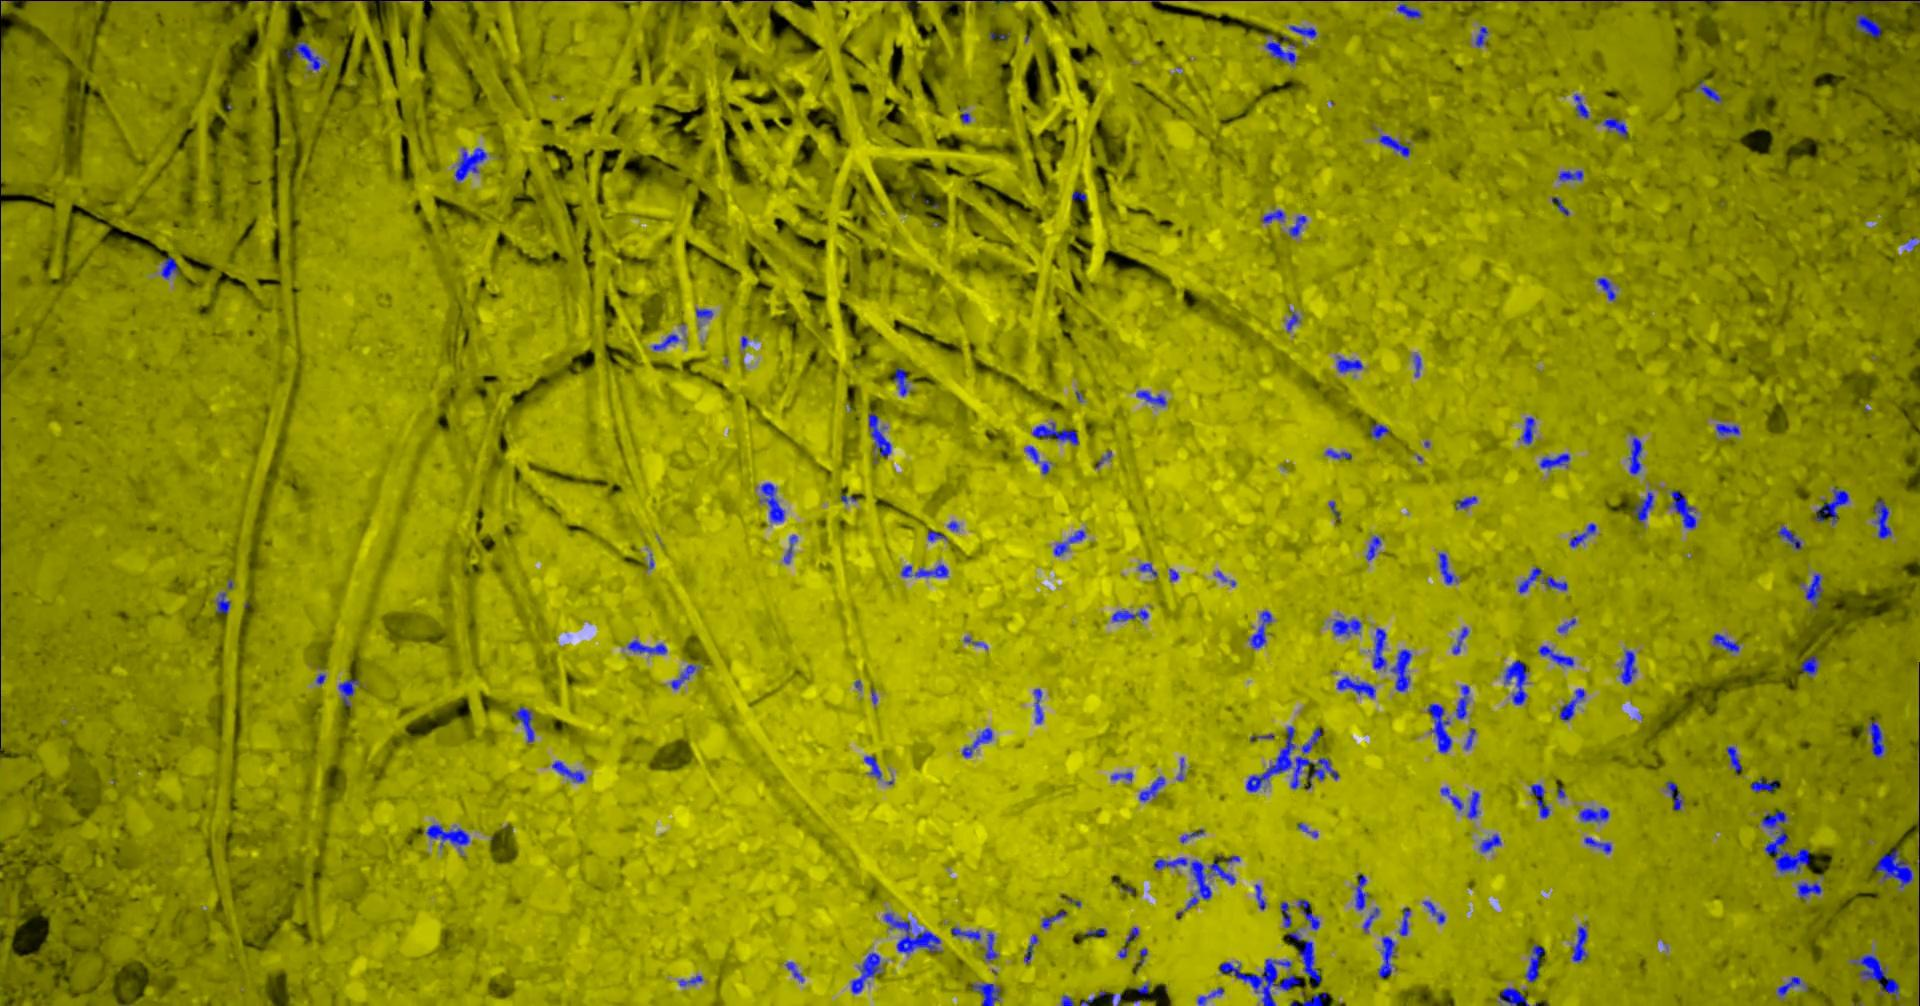ant: (1153, 857, 1211, 909), (883, 912, 941, 953), (1848, 954, 1898, 998), (1764, 828, 1810, 873), (1873, 848, 1912, 887), (850, 951, 881, 993), (1815, 486, 1848, 525), (1427, 702, 1451, 752), (425, 824, 469, 851), (284, 39, 320, 70), (1297, 940, 1321, 984), (455, 147, 486, 180), (1305, 757, 1338, 789), (1032, 422, 1078, 445), (869, 412, 891, 456), (1669, 490, 1695, 528), (1503, 659, 1526, 704), (759, 481, 783, 522), (961, 727, 990, 757), (1247, 610, 1271, 647), (1053, 528, 1084, 556), (1390, 649, 1411, 691), (1336, 676, 1375, 697), (1558, 688, 1583, 720), (512, 706, 533, 742), (1263, 39, 1295, 64), (551, 760, 584, 782), (1524, 944, 1544, 981), (1208, 857, 1236, 884), (1378, 936, 1396, 978), (1378, 135, 1410, 158), (1538, 645, 1573, 666), (1530, 782, 1550, 818), (1138, 776, 1164, 801), (1297, 899, 1319, 929), (971, 982, 1001, 1005), (1803, 573, 1822, 607), (1873, 499, 1890, 539), (1570, 523, 1596, 547), (1632, 492, 1653, 521), (1571, 923, 1587, 962), (1855, 13, 1881, 37), (900, 564, 949, 577), (1517, 567, 1542, 592), (1868, 720, 1884, 757), (1437, 553, 1457, 584), (1777, 976, 1808, 995), (1371, 627, 1385, 669), (670, 664, 695, 688), (338, 678, 358, 706), (1354, 873, 1369, 909), (1777, 526, 1801, 549), (1628, 436, 1642, 474), (627, 639, 665, 653), (1289, 991, 1327, 1005), (1440, 788, 1463, 810), (1422, 901, 1445, 923), (1665, 781, 1683, 810), (1498, 987, 1528, 1005), (1712, 633, 1738, 652), (1620, 650, 1636, 683), (893, 367, 910, 395), (1455, 683, 1469, 719), (1583, 836, 1611, 854), (1698, 80, 1721, 102), (1603, 117, 1627, 137), (1040, 909, 1065, 929), (1137, 390, 1166, 406), (1332, 619, 1361, 635), (651, 333, 678, 351), (1336, 354, 1363, 372), (1111, 608, 1148, 621), (1539, 453, 1570, 469), (1396, 0, 1421, 18), (1197, 987, 1223, 1005), (1451, 627, 1468, 654), (1750, 776, 1777, 793), (1596, 277, 1615, 300), (863, 754, 881, 779), (1761, 810, 1785, 828), (1726, 746, 1741, 774), (160, 257, 179, 278), (1578, 807, 1608, 821), (1023, 934, 1037, 963), (1363, 907, 1379, 931), (1573, 93, 1589, 118), (1796, 882, 1821, 897), (950, 927, 980, 940), (1288, 215, 1305, 236), (1467, 791, 1481, 818), (783, 533, 796, 563), (1365, 535, 1380, 559), (1479, 833, 1500, 851), (1521, 417, 1534, 445), (1542, 575, 1567, 589), (1032, 688, 1043, 723), (1550, 196, 1568, 215), (984, 932, 997, 959), (785, 962, 803, 981), (1369, 423, 1389, 439), (215, 592, 230, 614), (1288, 25, 1316, 37), (1398, 907, 1410, 935), (1801, 655, 1817, 674), (1280, 901, 1291, 927), (1286, 309, 1299, 332), (1463, 727, 1476, 749), (1180, 829, 1203, 842), (1455, 495, 1476, 509), (1262, 210, 1284, 222), (1324, 448, 1351, 459), (1716, 423, 1738, 434), (1474, 25, 1487, 46), (1558, 170, 1583, 180), (1255, 884, 1265, 909), (1023, 445, 1037, 462), (1557, 619, 1575, 633), (1138, 563, 1156, 575), (927, 530, 946, 541), (678, 976, 702, 984), (1125, 927, 1138, 942), (1110, 771, 1131, 780), (1084, 927, 1106, 936), (695, 307, 712, 318), (1070, 191, 1086, 199), (1060, 995, 1073, 1005), (1808, 0, 1898, 1), (1415, 354, 1420, 376)
